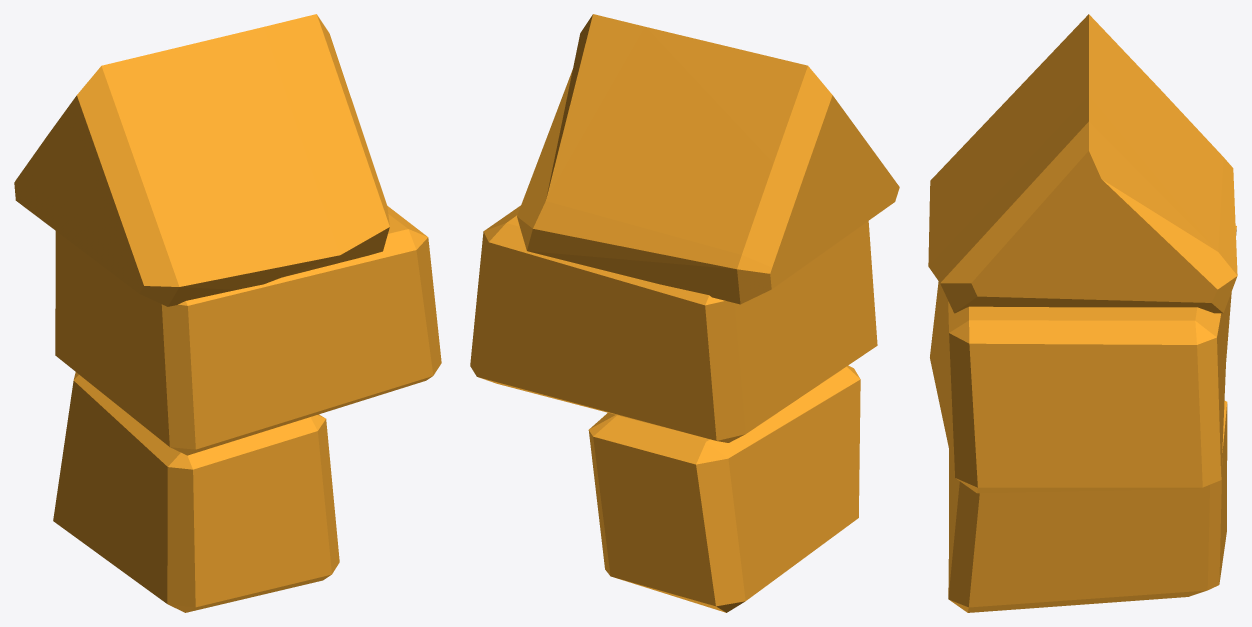
Rendered from SM_Crenelations_Backwall_End_Fantasy.fbx.
3 views of the same model, side by side, from view 1: azimuth 30°, elevation 25°; view 2: azimuth 150°, elevation 25°; view 3: azimuth 270°, elevation 25° (orthographic).
Parts seen in each view (by area): view 1: SM_Crenelations_Backwall_End_Fantasy; view 2: SM_Crenelations_Backwall_End_Fantasy; view 3: SM_Crenelations_Backwall_End_Fantasy.
Boxes of the visible parts, x1,y1,x2,y2 form: SM_Crenelations_Backwall_End_Fantasy: (14,14,441,612); SM_Crenelations_Backwall_End_Fantasy: (470,14,899,612); SM_Crenelations_Backwall_End_Fantasy: (928,14,1237,612).
Bounding box in the file's own units: 0.7176 × 1.13 × 0.6098.
